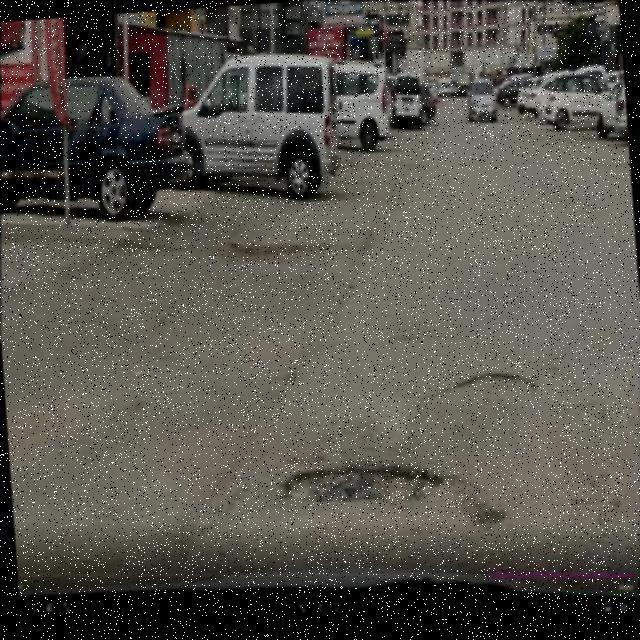Pothole: (280, 467, 444, 510), (414, 372, 536, 409)
